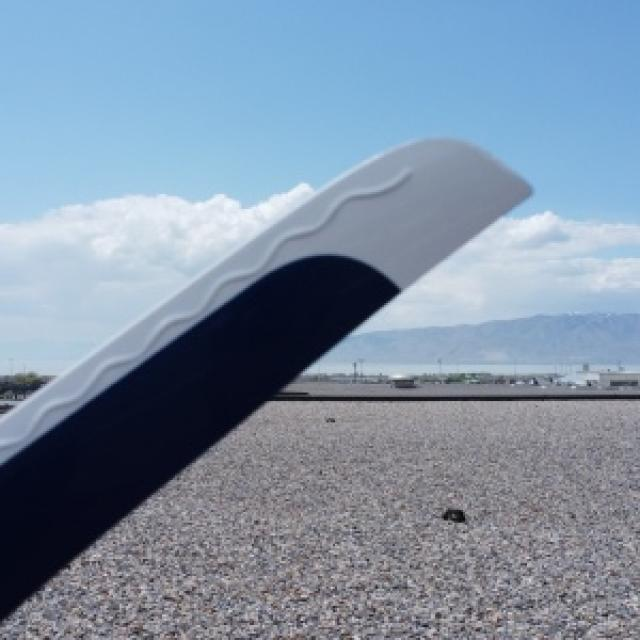healthy: (0, 139, 529, 614)
